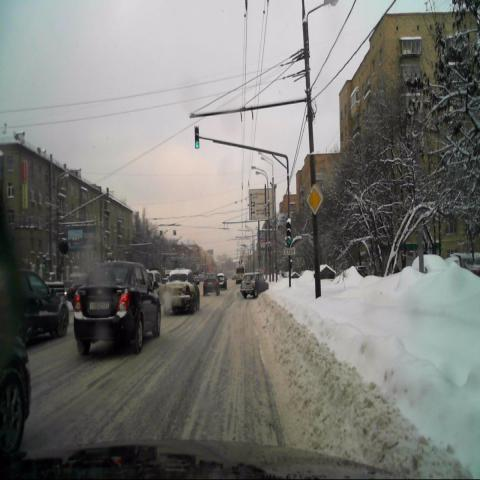2_1: (306, 184, 323, 216)
